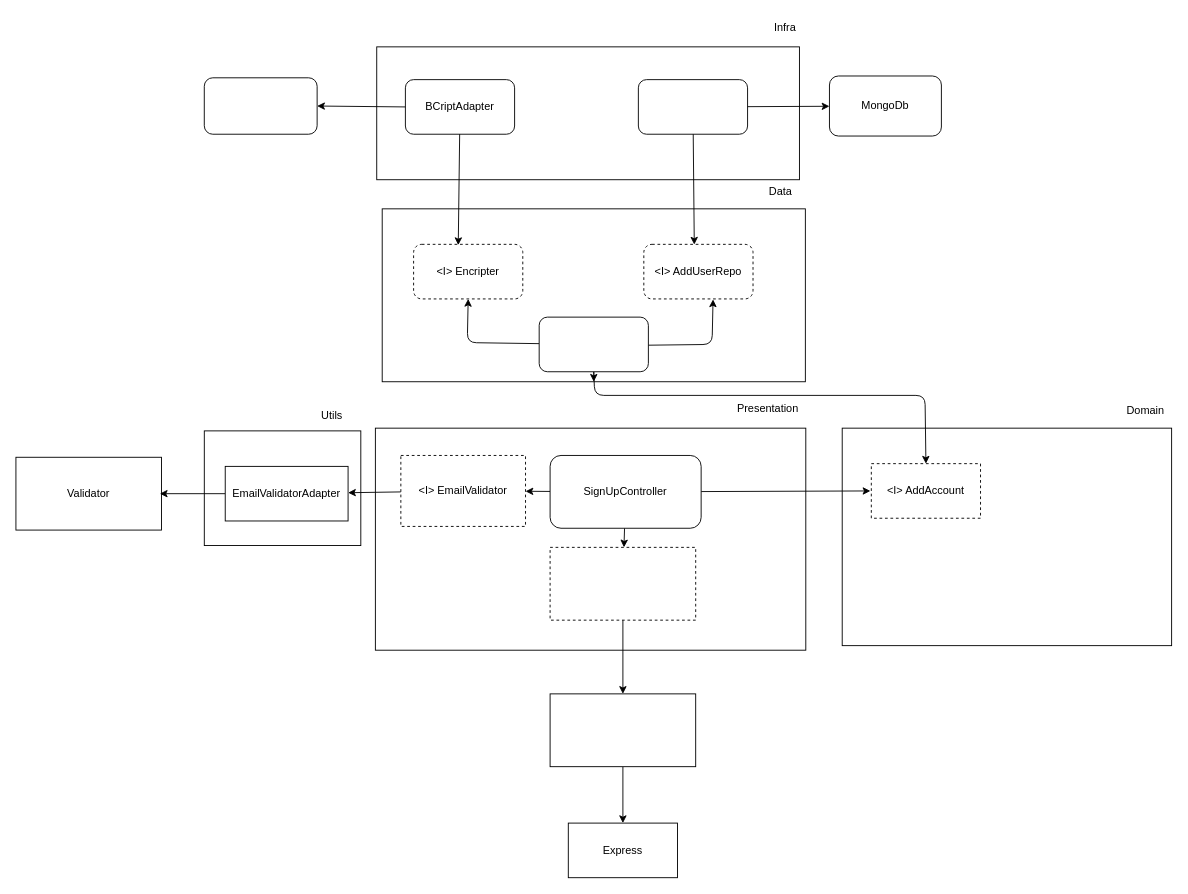
Some shapes in this 1188 by 894 pixel diagram are drawn without their labels. The centre of each missing label's shape, as x and y in pixels:
"<I> Controller" belongs at (x=622, y=583).
"AddMongoRepo" belongs at (x=692, y=106).
"BCript" belongs at (x=260, y=105).
"DbAddAccount" belongs at (x=593, y=344).
"ExpressRouteAdapter" belongs at (x=622, y=730).
